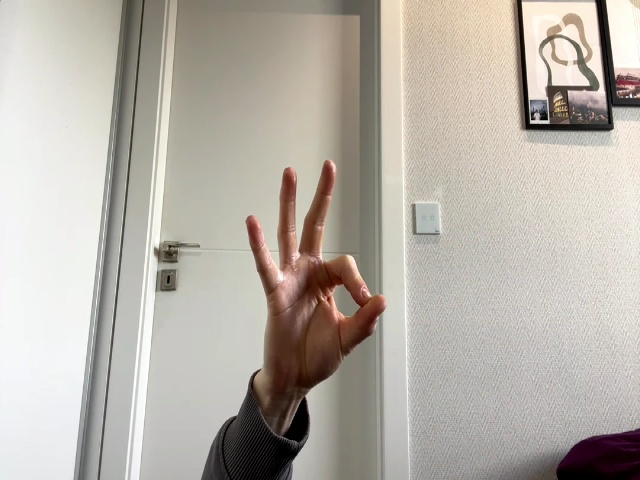O: (245, 160, 387, 391)
